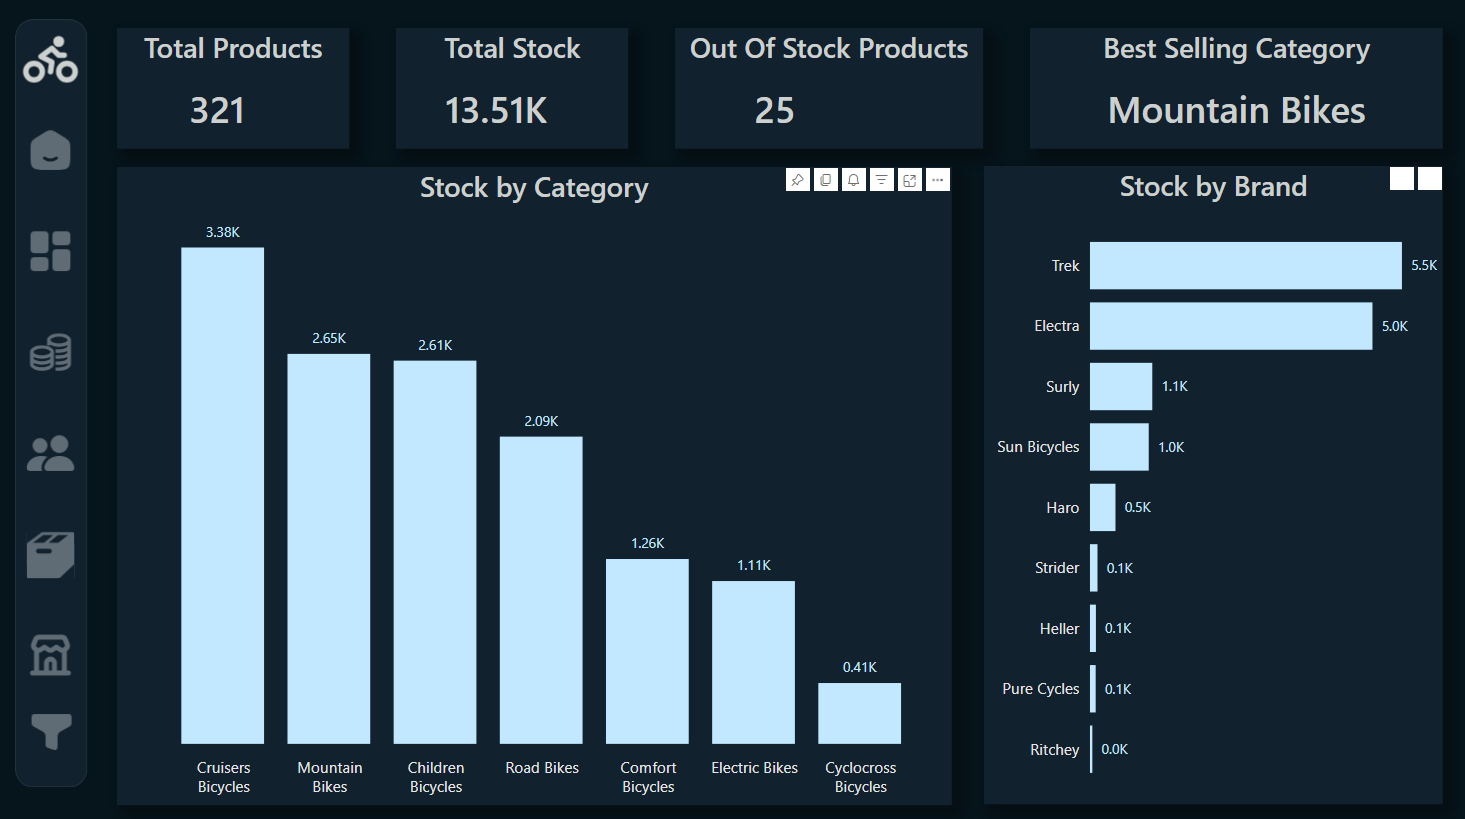

This screenshot's page, from the dashboard's own definition file:
{"tool":"powerbi","page":{"name":"Products & Inventory","canvas":[1280,720],"ordinal":4},"visuals":[{"type":"shape","box":[14.1,20.6,63,668.3],"z":0},{"type":"actionButton","box":[20.2,193.3,49.5,58.5],"z":1000},{"type":"actionButton","box":[20.2,281.9,49.5,57.4],"z":2000},{"type":"actionButton","box":[20.2,369.5,49.5,57.4],"z":3000},{"type":"actionButton","box":[20.2,545.6,49.5,57.4],"z":4000},{"type":"actionButton","box":[20.2,457,49.5,58.5],"z":5000},{"type":"actionButton","box":[20.2,105.8,49.5,57.4],"z":6000},{"type":"actionButton","box":[12.4,23.6,65.2,66.4],"z":7000},{"type":"cardVisual","title":"Total Products","fields":{"Data":["All-Measure.Total Products"]},"box":[102.5,28.7,202.2,105.2],"z":8000},{"type":"cardVisual","title":"Total Stock","fields":{"Data":["All-Measure.Total Stock"]},"box":[345.2,28.7,202.2,105.2],"z":9000},{"type":"cardVisual","title":"Out Of Stock Products","fields":{"Data":["All-Measure.Out of Stock Products"]},"box":[587.9,28.7,267.7,105.2],"z":10000},{"type":"cardVisual","title":"Best Selling Category","fields":{"Data":["All-Measure.Best Selling Category"]},"box":[896.1,28.7,359.3,105.2],"z":11000},{"type":"barChart","title":"Stock by Brand","fields":{"Category":["Brands.brand_name"],"Y":["All-Measure.Total Stock"]},"box":[856.1,148.5,399.4,554.6],"z":12000},{"type":"clusteredColumnChart","title":"Stock by Category","fields":{"Category":["Categories.category_name"],"Y":["All-Measure.Total Stock"]},"box":[102.4,149.6,725.6,554.6],"z":13000},{"type":"actionButton","box":[20.8,612.8,49.7,56.7],"z":13001}]}

Visuals, with their boxes on the page's 1280x720 design canvas (x1, y1, x2, y2). These are canvas units, not pixel positions in the 1465x819 screenshot, which may show the page scaled, cropped or inside an application window:
shape: (14, 21, 77, 689)
actionButton: (20, 193, 70, 252)
actionButton: (20, 282, 70, 339)
actionButton: (20, 370, 70, 427)
actionButton: (20, 546, 70, 603)
actionButton: (20, 457, 70, 516)
actionButton: (20, 106, 70, 163)
actionButton: (12, 24, 78, 90)
"Total Products" cardVisual: (102, 29, 305, 134)
"Total Stock" cardVisual: (345, 29, 547, 134)
"Out Of Stock Products" cardVisual: (588, 29, 856, 134)
"Best Selling Category" cardVisual: (896, 29, 1255, 134)
"Stock by Brand" barChart: (856, 148, 1256, 703)
"Stock by Category" clusteredColumnChart: (102, 150, 828, 704)
actionButton: (21, 613, 70, 670)
